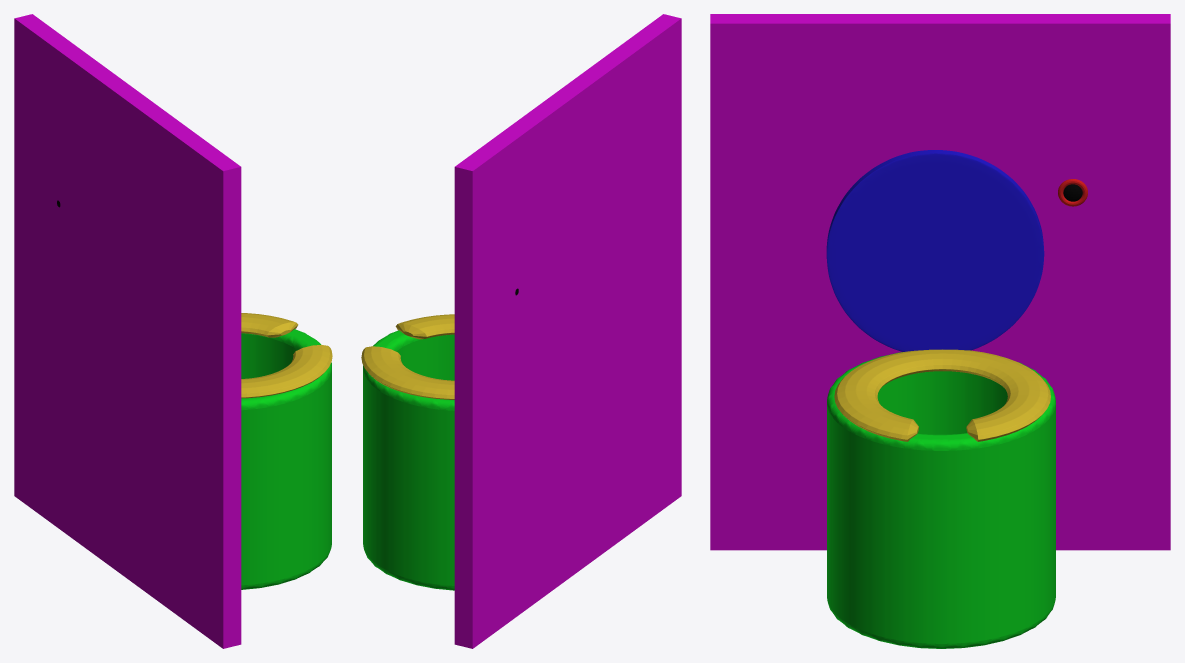
The model's file is toilet.obj.
The picture shows the model from 3 angles, left to right: view 1: azimuth 30°, elevation 25°; view 2: azimuth 150°, elevation 25°; view 3: azimuth 270°, elevation 25°; orthographic projection. The views are drawn at different scales.
Visible parts, largest first — view 1: Cube_Cube.002, Cylinder, Torus; view 2: Cube_Cube.002, Cylinder, Torus; view 3: Cube_Cube.002, Cylinder, Cylinder.001_Cylinder.002, Torus.
Part boxes in pixels (box(x1,y1,x2,y2)): Cube_Cube.002: box(14, 14, 241, 648); Cylinder: box(241, 329, 331, 589); Torus: box(241, 313, 332, 398); Cube_Cube.002: box(454, 14, 681, 648); Cylinder: box(363, 330, 454, 590); Torus: box(361, 314, 454, 399); Cube_Cube.002: box(710, 14, 1170, 550); Cylinder: box(827, 352, 1055, 648); Cylinder.001_Cylinder.002: box(826, 150, 1044, 351); Torus: box(834, 349, 1050, 441).
Bounding box in the file's own units: 2.22 × 5.09 × 4.
